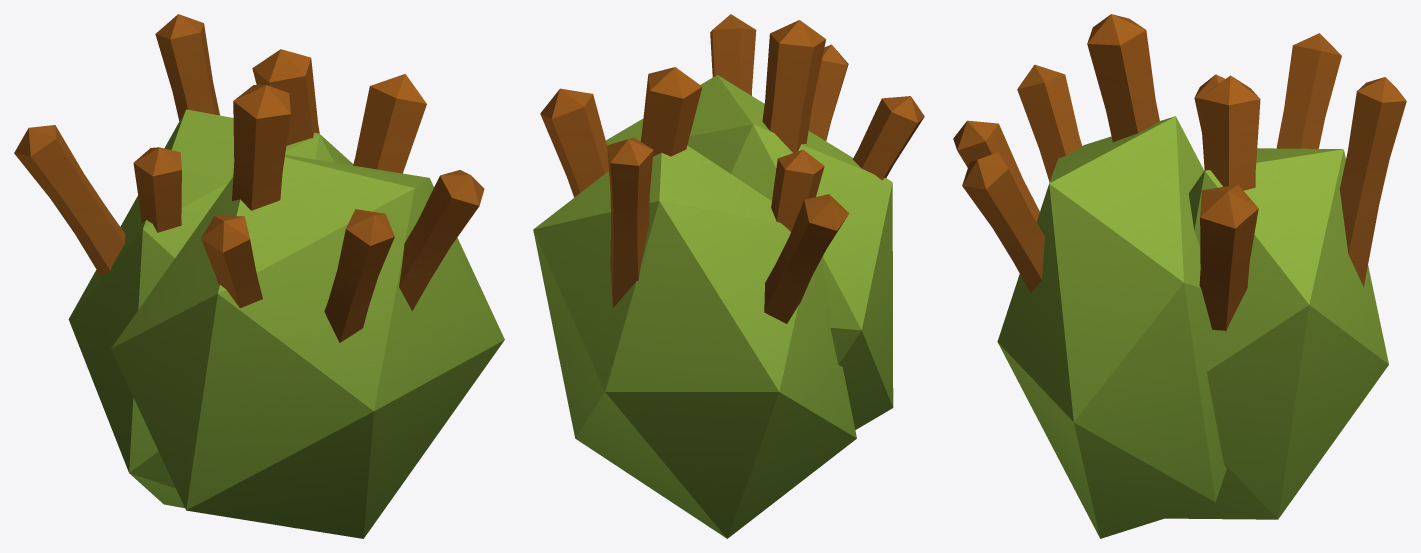
Rendered from arbusto3.fbx.
The picture shows the model from 3 angles, left to right: view 1: azimuth 30°, elevation 25°; view 2: azimuth 150°, elevation 25°; view 3: azimuth 270°, elevation 25°; orthographic projection. The views are drawn at different scales.
Visible parts, largest first — view 1: arbusto21; view 2: arbusto21; view 3: arbusto21.
Boxes of the visible parts, <box> form: arbusto21: <box>14,14,504,538</box>; arbusto21: <box>533,14,924,538</box>; arbusto21: <box>953,14,1406,538</box>.
Size of the model in its own units: 215 by 271 by 228.
